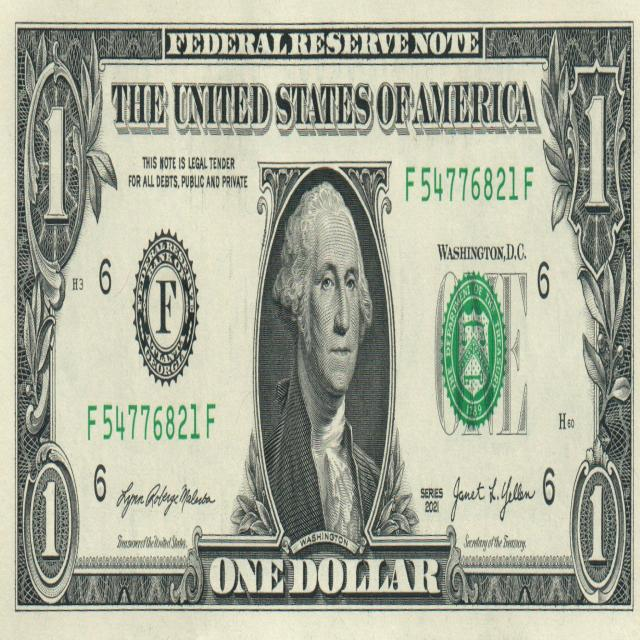SerialNumber: (406, 166, 533, 201), (88, 404, 200, 440)
